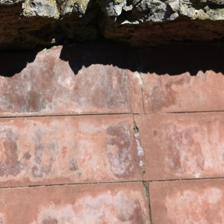Crack: (62, 49, 91, 134)
